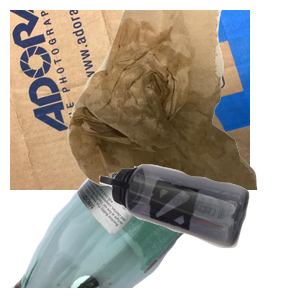cardboard: (10, 10, 250, 190)
glass: (10, 120, 224, 300)
plastic: (97, 162, 300, 300)
trash: (65, 10, 300, 190)
